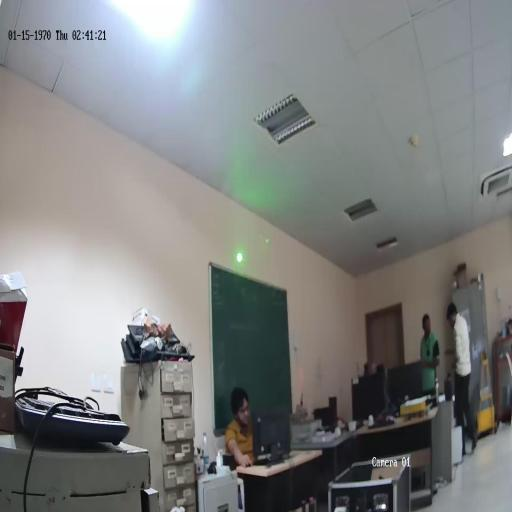laser: (234, 250, 244, 264)
